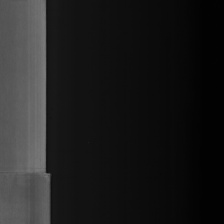welding_line: (0, 162, 58, 181)
